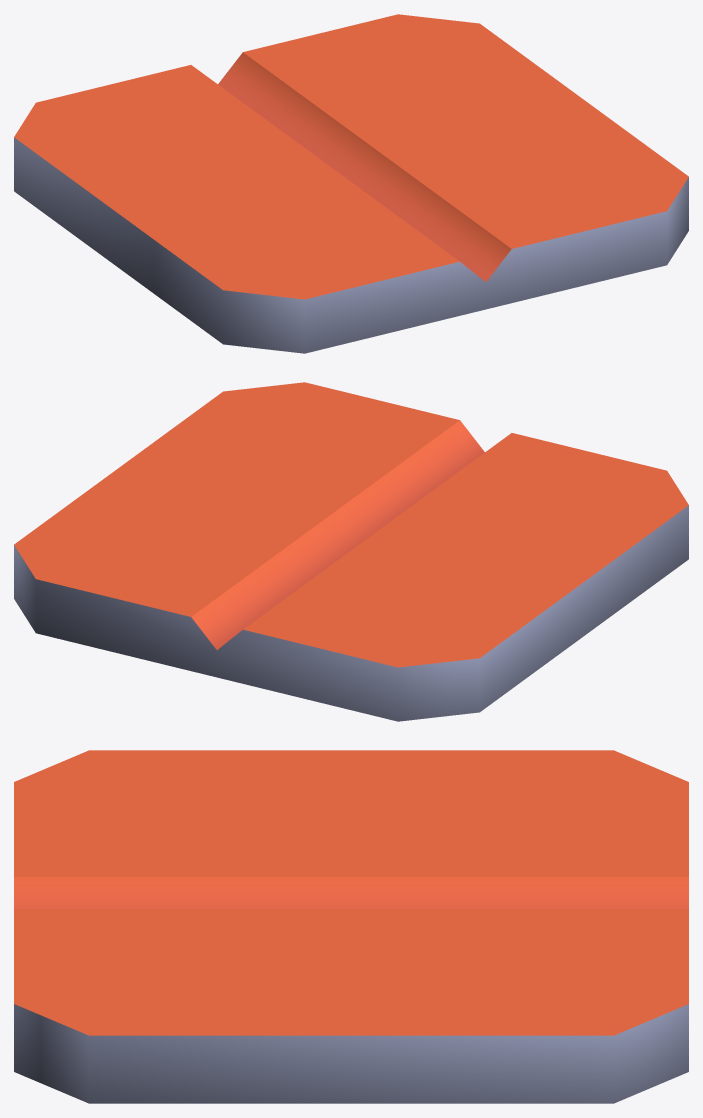
File: debris-plate-a.glb
3 views of the same model, one above another, from view 1: azimuth 30°, elevation 25°; view 2: azimuth 150°, elevation 25°; view 3: azimuth 270°, elevation 25° (orthographic). The views are drawn at different scales.
Parts seen in each view (by area): view 1: debris-plate-a; view 2: debris-plate-a; view 3: debris-plate-a.
Boxes of the visible parts, x1,y1,x2,y2 form: debris-plate-a: (14, 14, 688, 353); debris-plate-a: (14, 382, 688, 721); debris-plate-a: (14, 750, 688, 1103).
Size of the model in its own units: 0.9 by 0.1 by 0.9.
1 material, 1 textured.
